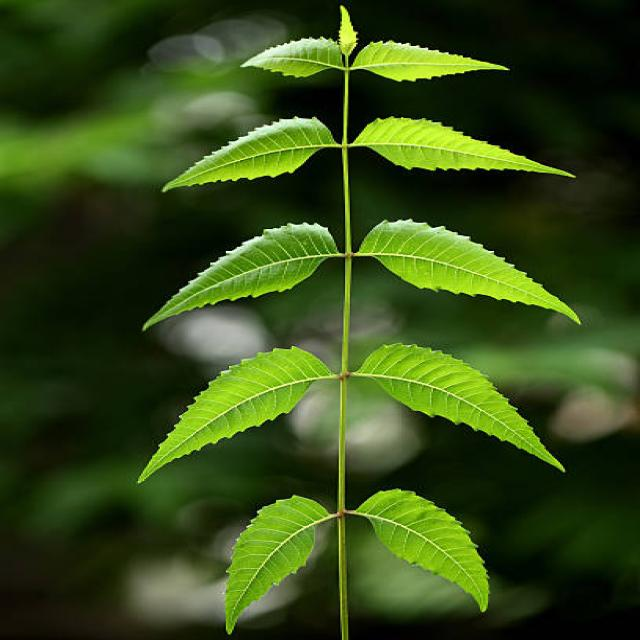Neem-Tree: (139, 9, 578, 639)
